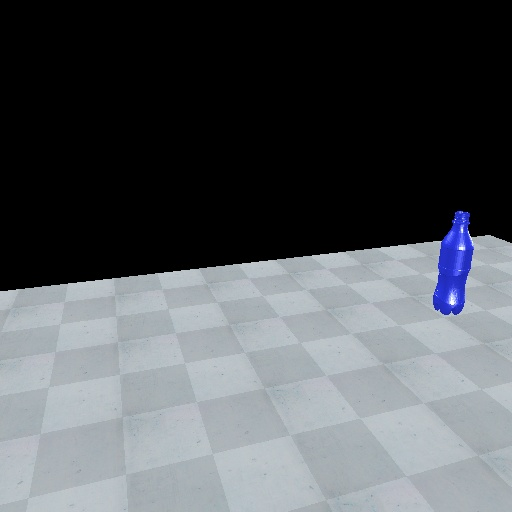bottle: (429, 208, 476, 318)
